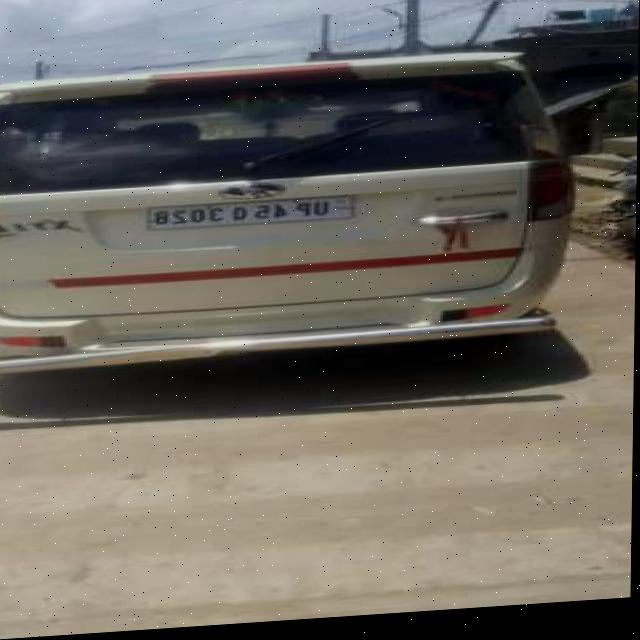plate: (145, 199, 358, 235)
